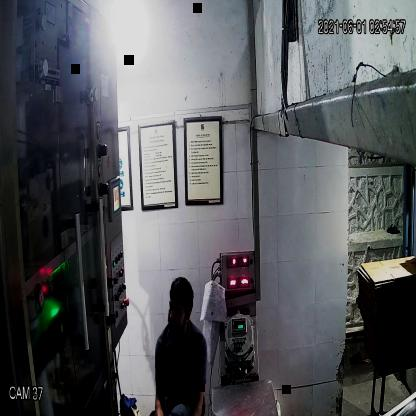no_goggles: (166, 301, 189, 321)
